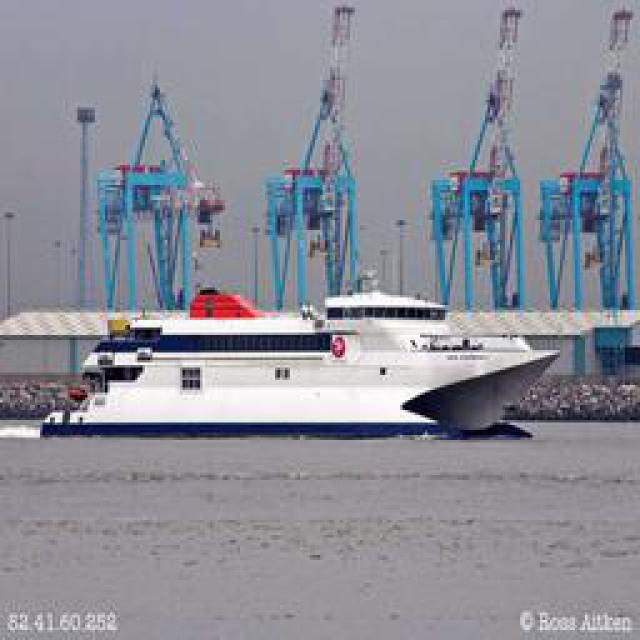Ship: (46, 311, 574, 434)
